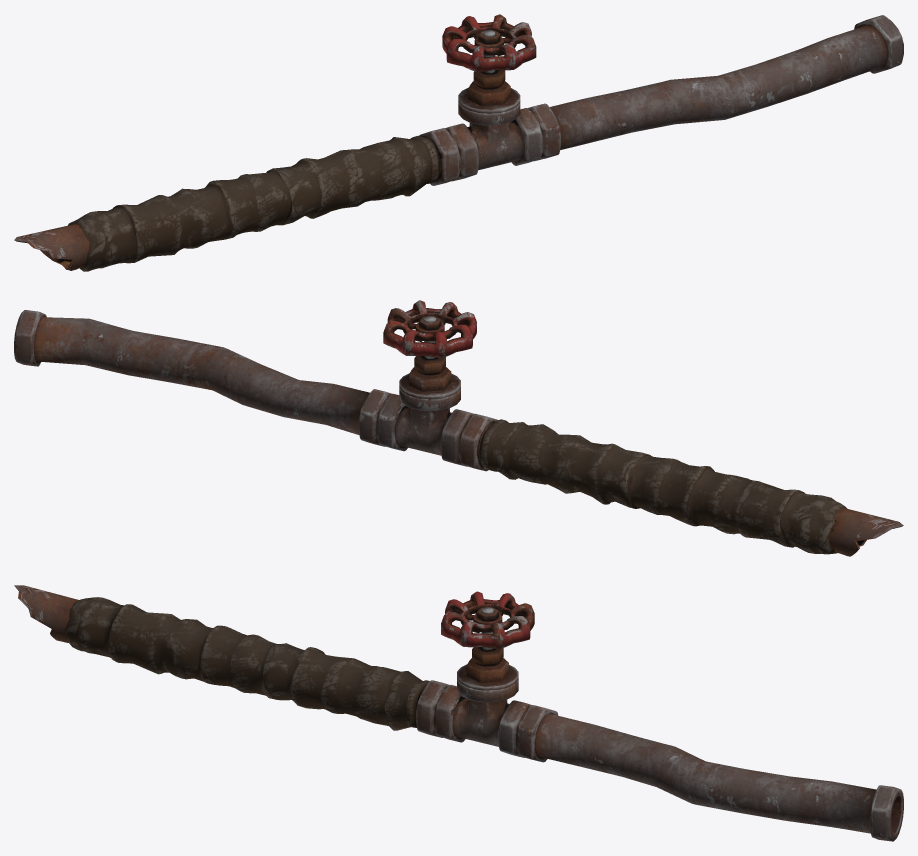
3 renders of one model, top to bottom at view 1: azimuth 30°, elevation 25°; view 2: azimuth 150°, elevation 25°; view 3: azimuth 330°, elevation 25°, orthographic.
Parts seen in each view (by area): view 1: Cylinder.038; view 2: Cylinder.038; view 3: Cylinder.038.
Part boxes in pixels (bbox=[...]): Cylinder.038: bbox=[14, 14, 903, 271]; Cylinder.038: bbox=[14, 300, 903, 556]; Cylinder.038: bbox=[14, 585, 903, 841].
Bounding box in the file's own units: 0.8282 × 0.1282 × 0.079.
Materials: 1 (1 with a texture image).
